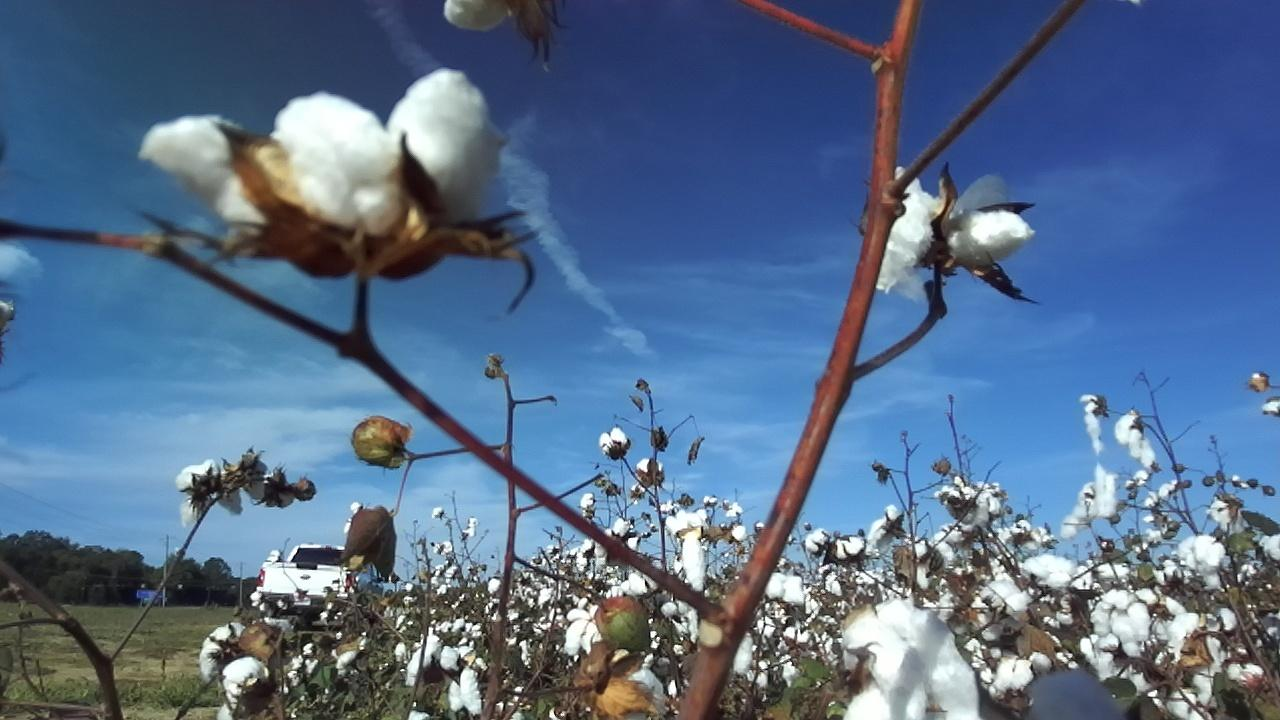cotton_ready: (139, 65, 514, 278), (878, 169, 1034, 299), (842, 600, 979, 720), (176, 460, 245, 527), (1026, 674, 1120, 720), (219, 662, 274, 720), (201, 620, 245, 680), (445, 0, 521, 30)
